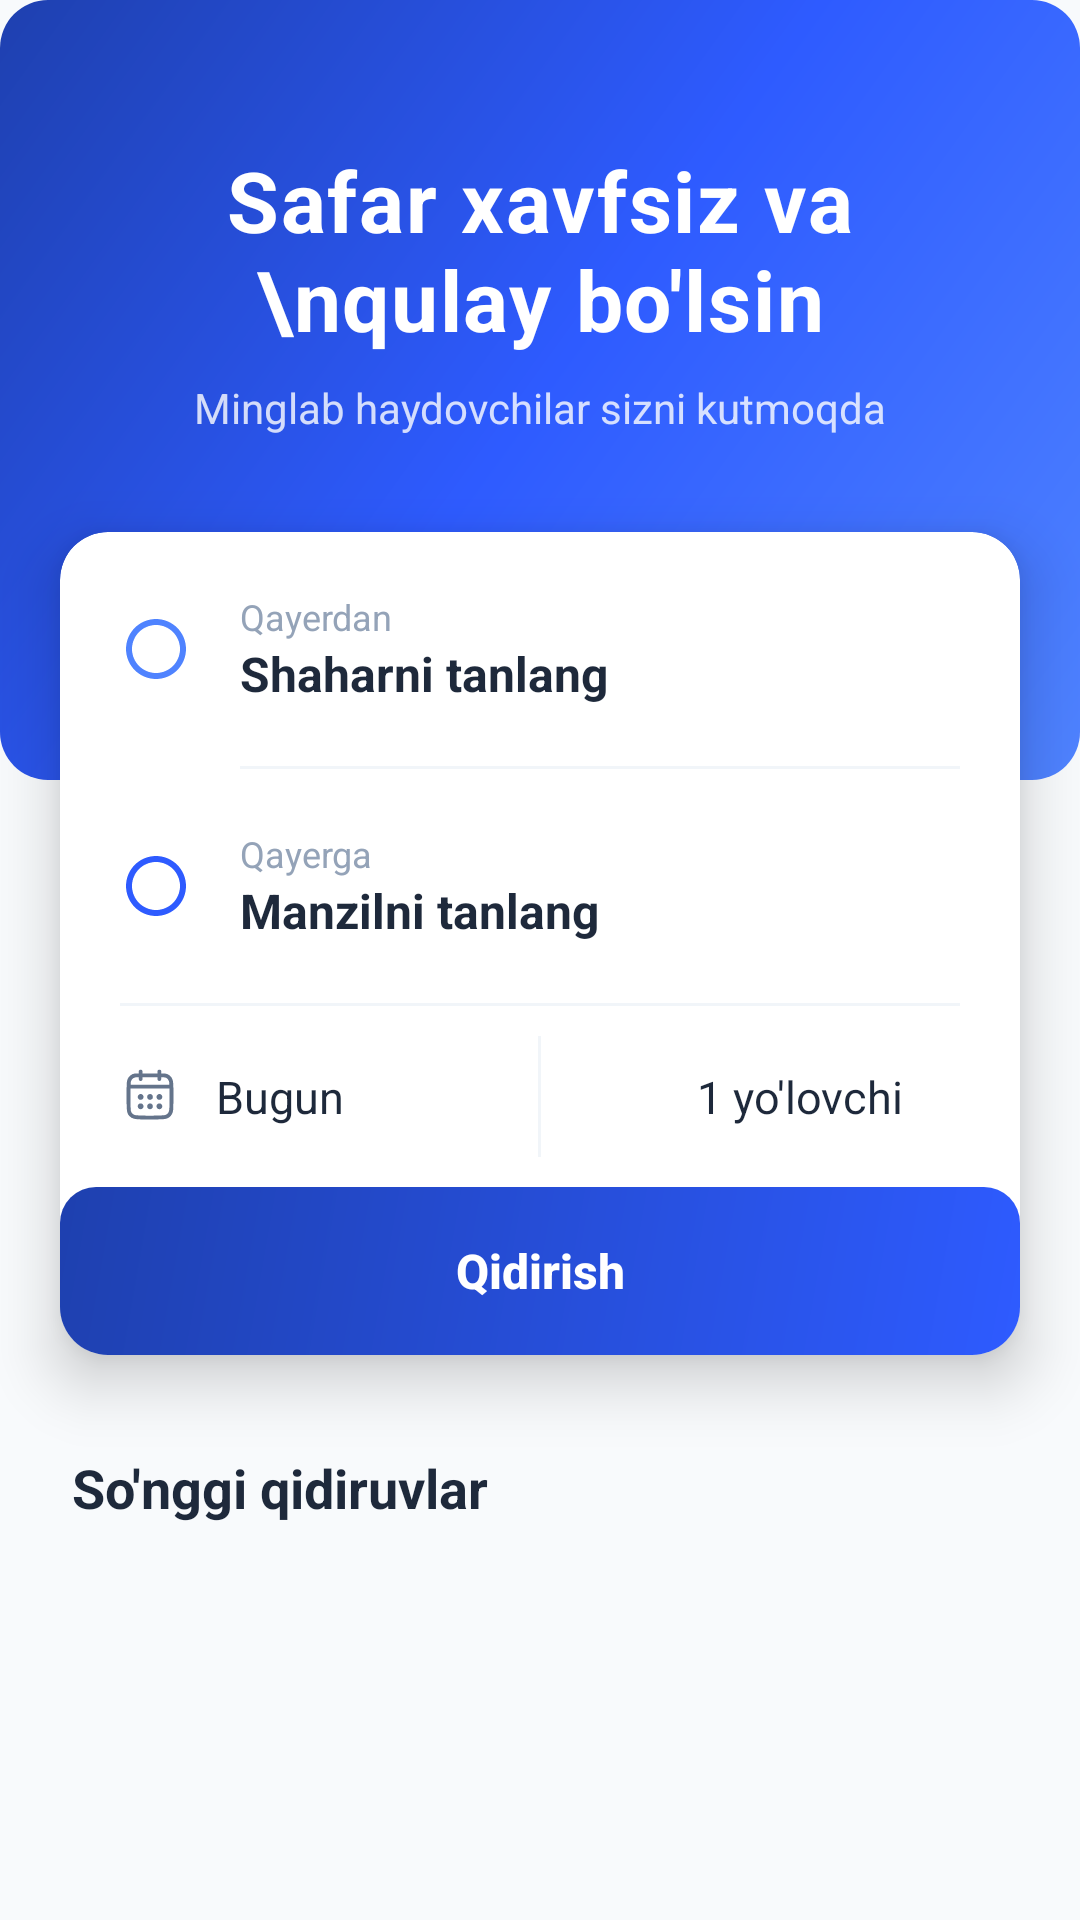

Where to tap for icons on this 1080x1920 app screen, as point (x, y):
calendar today: point (150, 1094)
shape circle: point (156, 649), point (156, 886)
